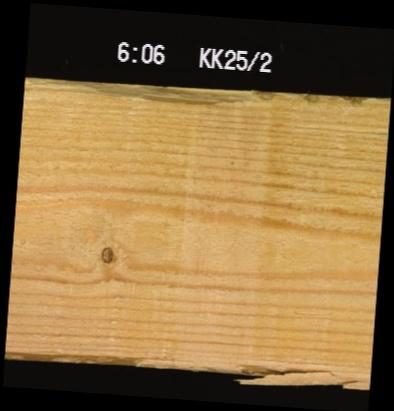dry_knot: (98, 242, 113, 262)
wave: (23, 83, 271, 102), (4, 341, 186, 363), (232, 356, 370, 377)
